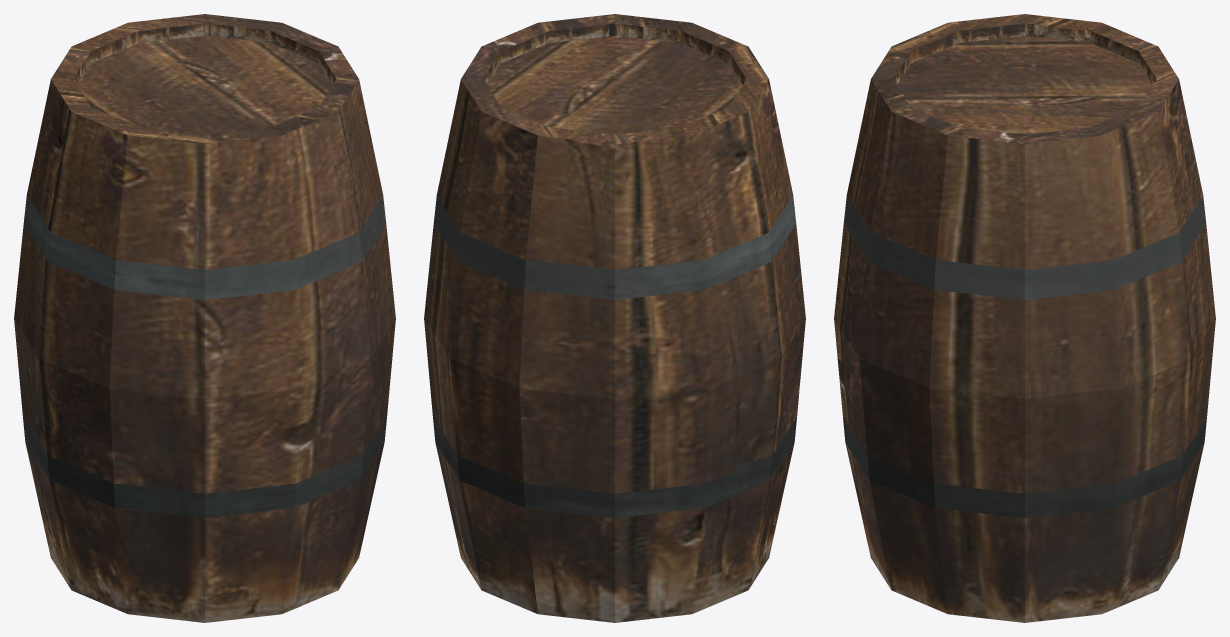
The model's file is Barrel_1.glb.
3 renders of one model, left to right at view 1: azimuth 30°, elevation 25°; view 2: azimuth 150°, elevation 25°; view 3: azimuth 270°, elevation 25°, orthographic.
Parts seen in each view (by area): view 1: Cylinder.002; view 2: Cylinder.002; view 3: Cylinder.002.
Boxes of the visible parts, x1,y1,x2,y2 form: Cylinder.002: (14,14,395,622); Cylinder.002: (424,14,805,622); Cylinder.002: (834,14,1215,622).
Bounding box in the file's own units: 0.8949 × 1.24 × 0.8949.
1 material, 1 textured.
